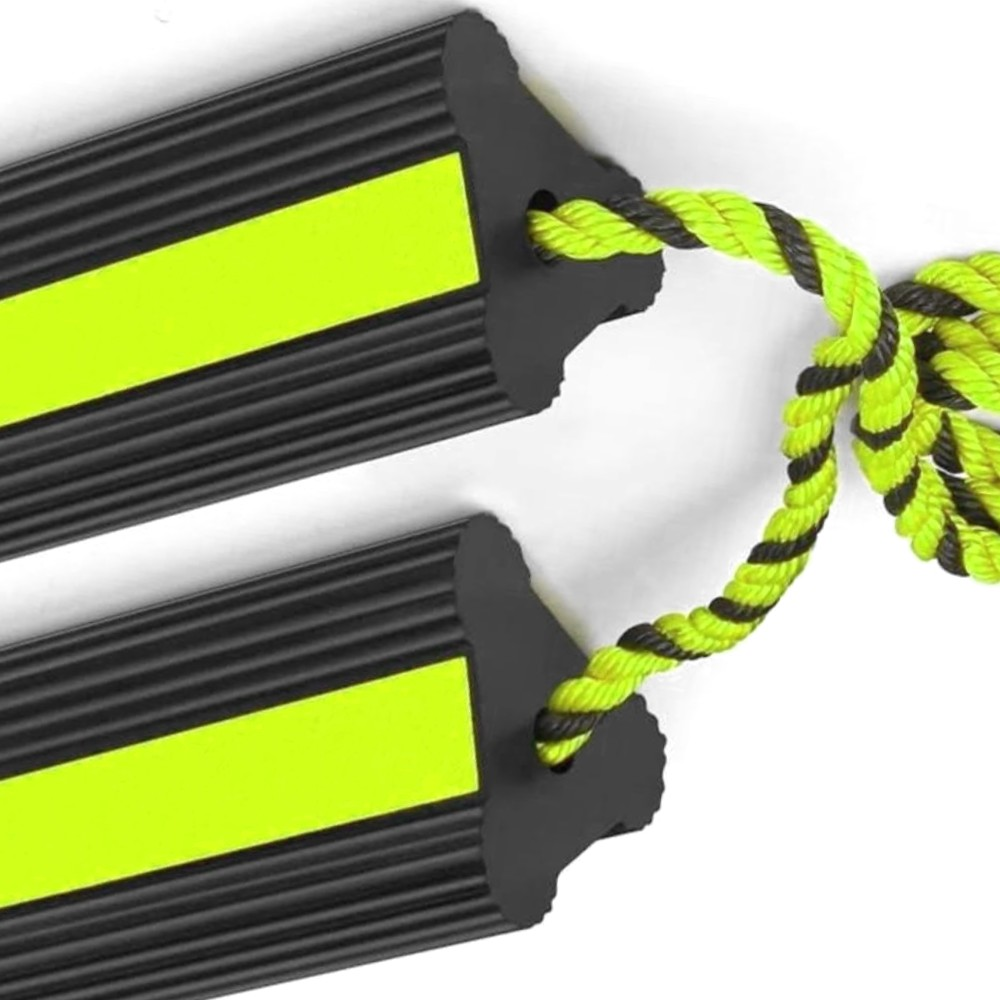chock: (0, 0, 712, 699), (0, 410, 721, 1000)
